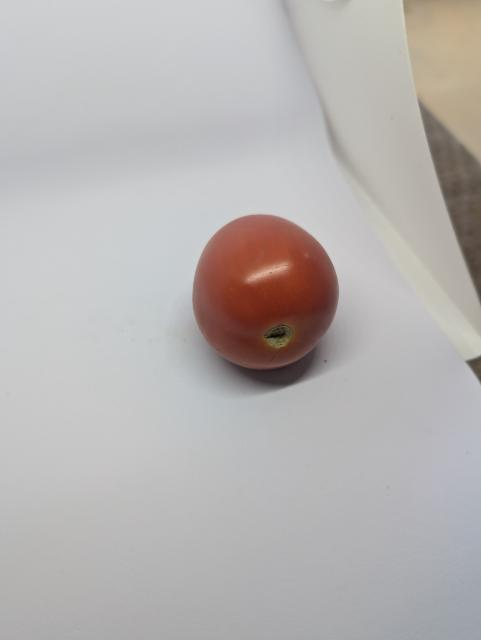red: (183, 204, 355, 392)
